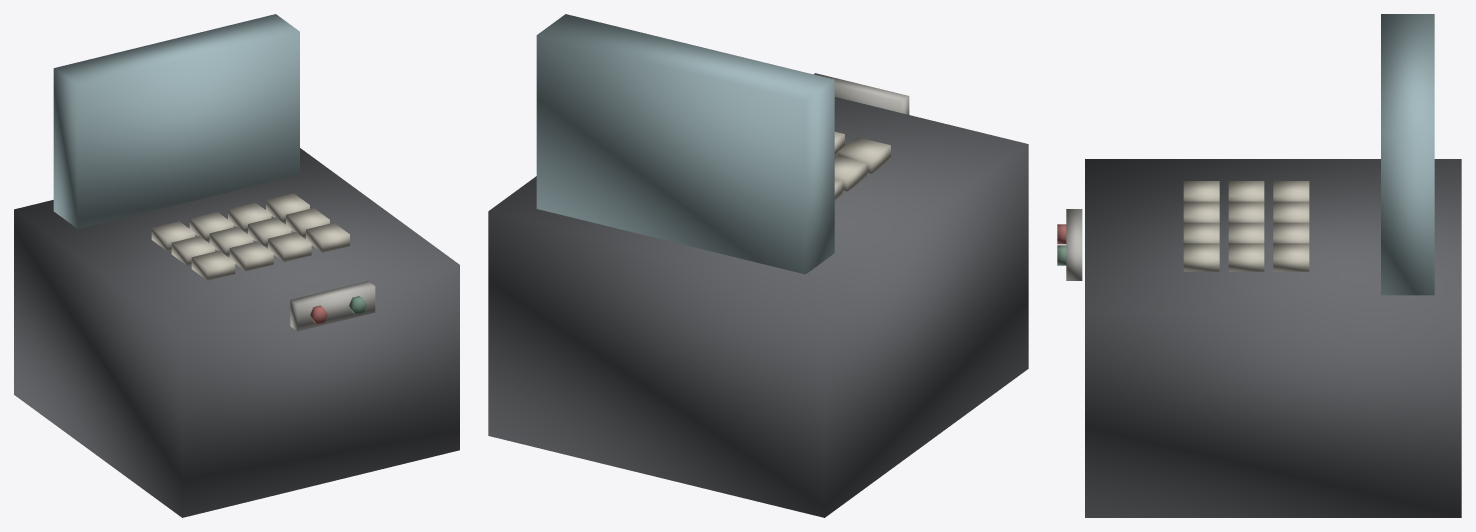
Rendered from cash_register__tall.glb.
3 views of the same model, side by side, from view 1: azimuth 30°, elevation 25°; view 2: azimuth 150°, elevation 25°; view 3: azimuth 270°, elevation 25° (orthographic). The views are drawn at different scales.
Visible parts, largest first — view 1: world; view 2: world; view 3: world.
Boxes of the visible parts, x1=… form: world: x1=14, y1=14, x2=459, y2=517; world: x1=488, y1=14, x2=1028, y2=517; world: x1=1057, y1=14, x2=1461, y2=517.
Size of the model in its own units: 0.4 by 0.4524 by 0.451.
